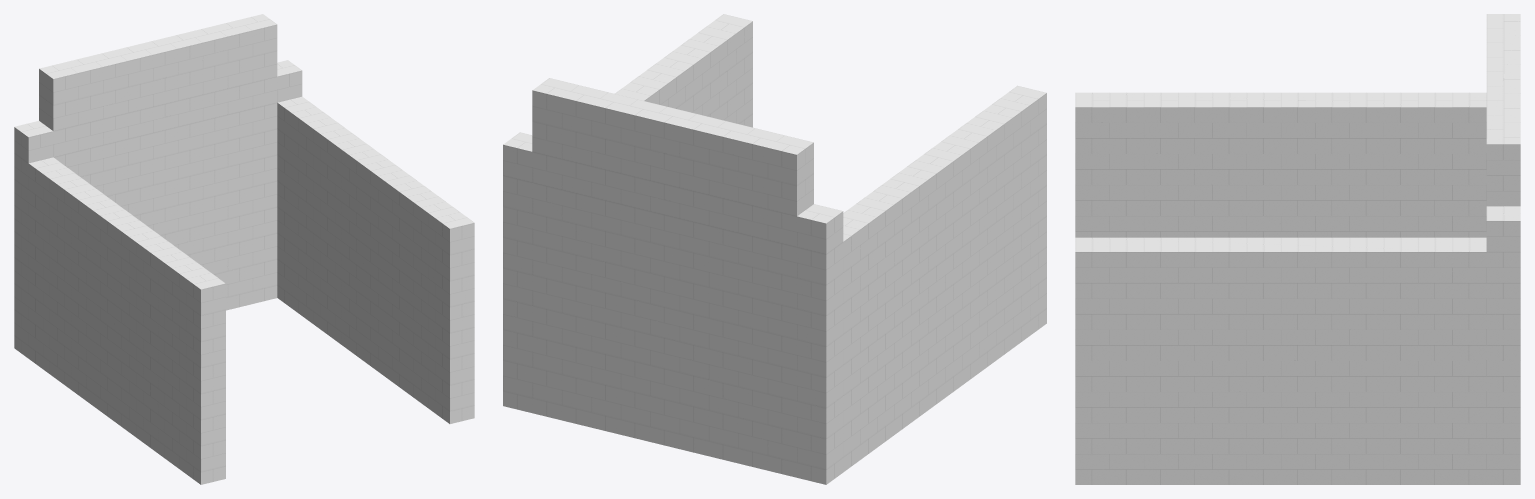
File: LobbyWalls.obj
The picture shows the model from 3 angles, left to right: view 1: azimuth 30°, elevation 25°; view 2: azimuth 150°, elevation 25°; view 3: azimuth 270°, elevation 25°; orthographic projection. The views are drawn at different scales.
Visible parts, largest first — view 1: LobbyWalls; view 2: LobbyWalls; view 3: LobbyWalls.
Part boxes in pixels (x1=…): LobbyWalls: x1=14, y1=14, x2=474, y2=484; LobbyWalls: x1=503, y1=14, x2=1046, y2=484; LobbyWalls: x1=1075, y1=14, x2=1520, y2=484.
Size of the model in its own units: 11 by 10.5 by 13.
